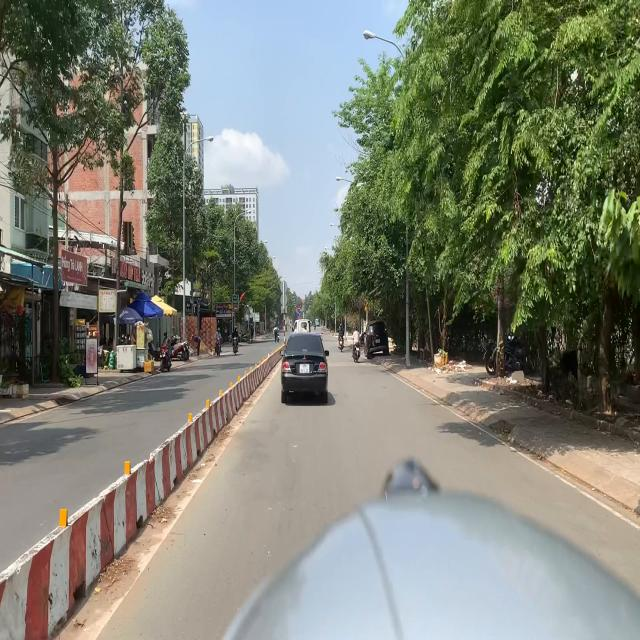Cam nguoc chieu: (298, 305, 300, 311)
Hieu lenh: (298, 311, 300, 316)
